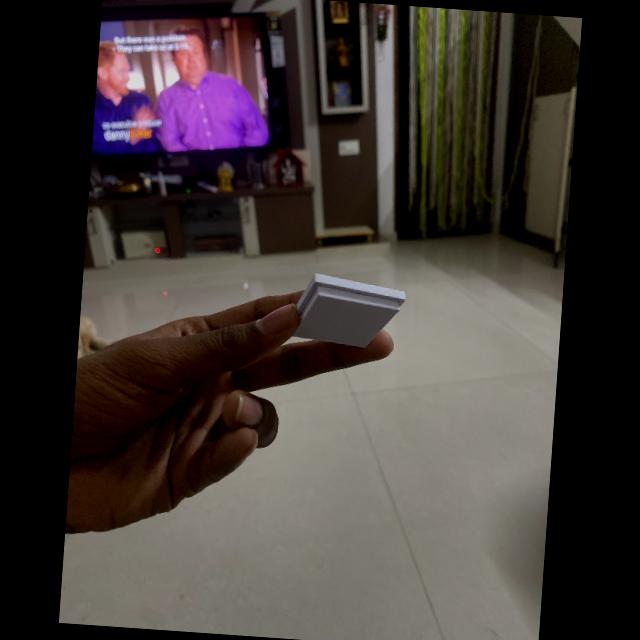RASPBERY PI CAM ENCLOSURE: (290, 272, 406, 351)
